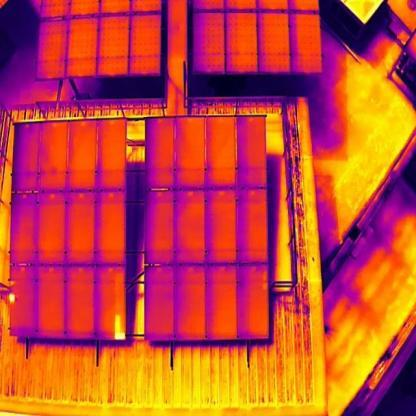anomaly: (112, 313, 127, 341), (6, 290, 17, 306)
